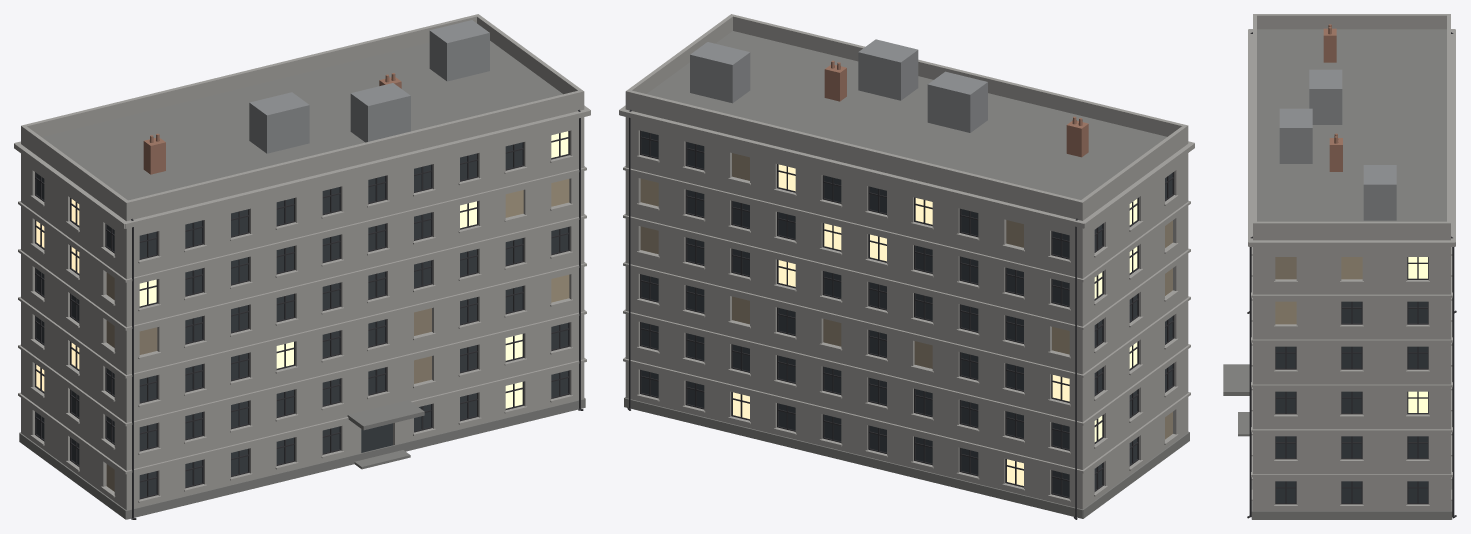
Rendered from party_block_a.glb.
3 renders of one model, left to right at view 1: azimuth 30°, elevation 25°; view 2: azimuth 150°, elevation 25°; view 3: azimuth 270°, elevation 25°, orthographic. The views are drawn at different scales.
Parts seen in each view (by area): view 1: party_block_a; view 2: party_block_a; view 3: party_block_a.
Part boxes in pixels (x1,y1,x2,y2): party_block_a: [14, 14, 590, 519]; party_block_a: [619, 14, 1194, 519]; party_block_a: [1223, 14, 1456, 519].
Size of the model in its own units: 30.6 by 21.34 by 14.15.
